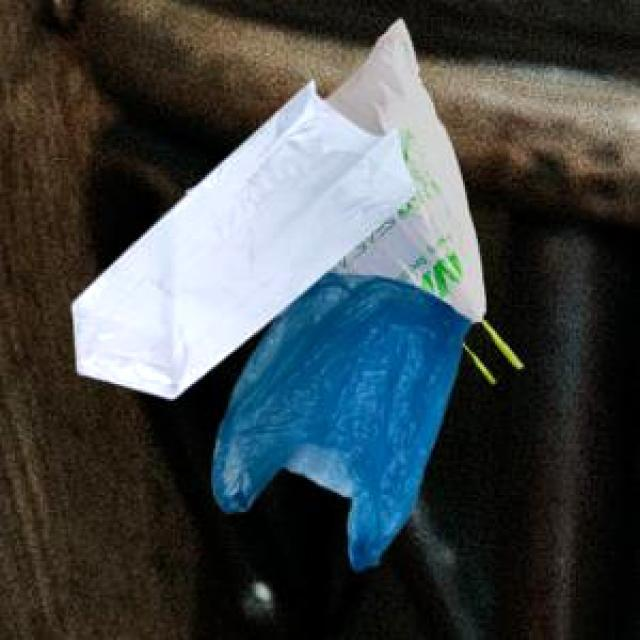Plastic_Bag: (69, 78, 413, 396), (210, 267, 468, 568), (321, 16, 520, 379)
